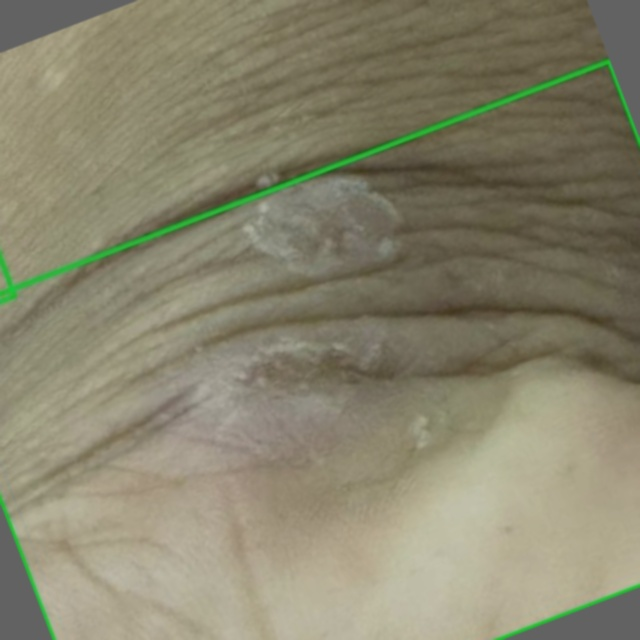Scabies: (0, 61, 639, 639)
